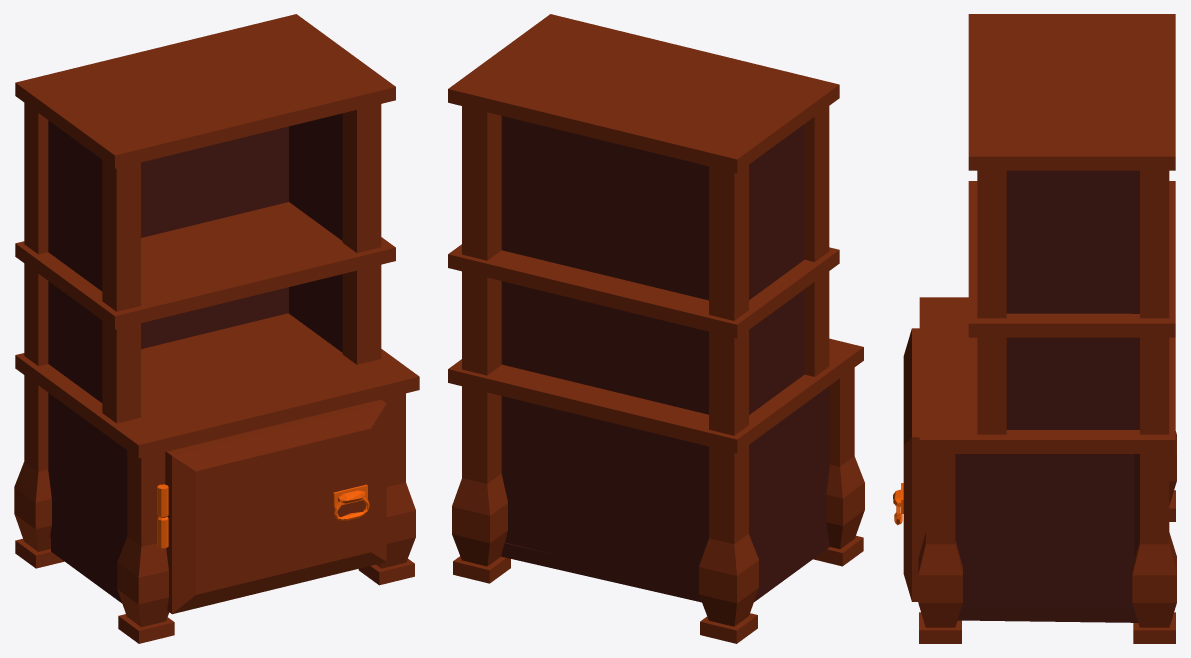
File: Furniture_4.fbx
3 views of the same model, side by side, from view 1: azimuth 30°, elevation 25°; view 2: azimuth 150°, elevation 25°; view 3: azimuth 270°, elevation 25° (orthographic). The views are drawn at different scales.
Visible parts, largest first — view 1: Wealth_Shelw_5, Wealth_Shelw_5_Left_Door; view 2: Wealth_Shelw_5; view 3: Wealth_Shelw_5, Wealth_Shelw_5_Left_Door.
Part boxes in pixels (x1,y1,x2,y2): Wealth_Shelw_5: (14,14,419,643); Wealth_Shelw_5_Left_Door: (157,399,386,614); Wealth_Shelw_5: (448,14,864,643); Wealth_Shelw_5: (918,14,1176,643); Wealth_Shelw_5_Left_Door: (893,328,925,601).
Bounding box in the file's own units: 110 × 176 × 92.63.
